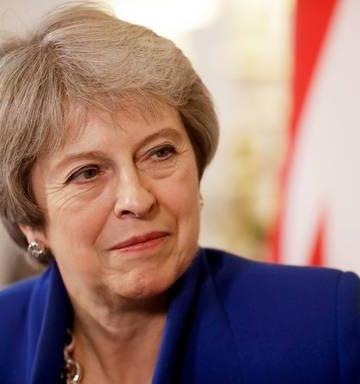Sober: (45, 109, 200, 290)
